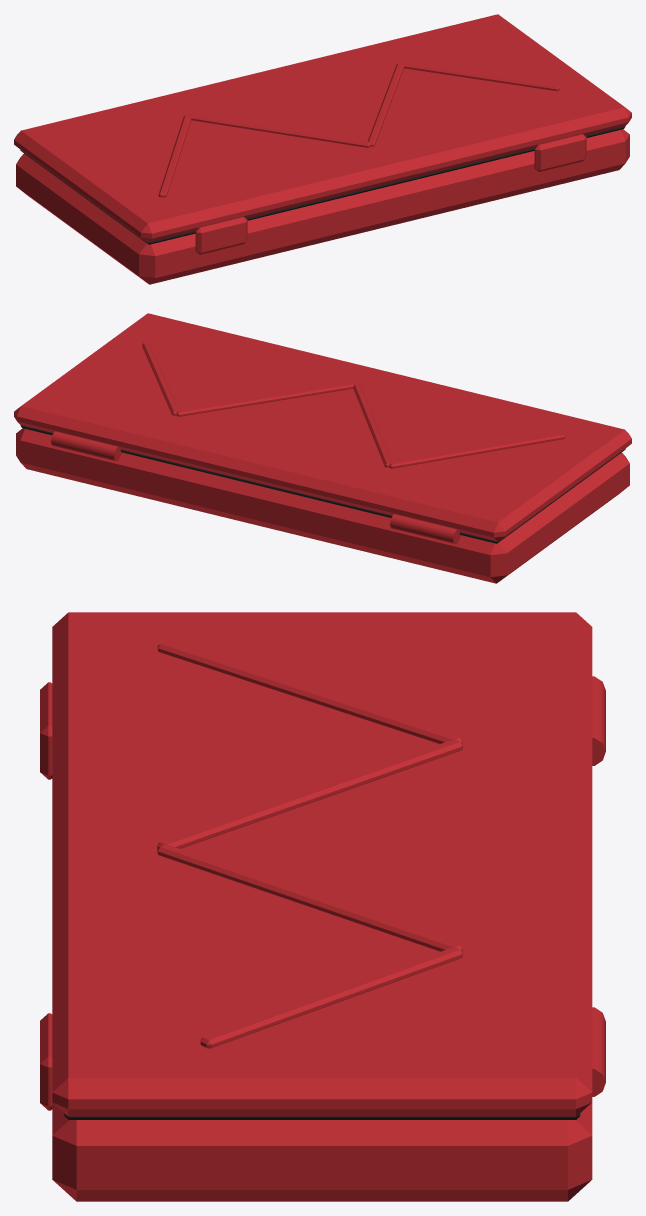
The picture shows the model from 3 angles, top to bottom: view 1: azimuth 30°, elevation 25°; view 2: azimuth 150°, elevation 25°; view 3: azimuth 270°, elevation 25°; orthographic projection. The views are drawn at different scales.
Visible parts, largest first — view 1: Red shallow lower shell, Dark red case split seam; view 2: Red shallow lower shell, Dark red case split seam; view 3: Red shallow lower shell, Dark red case split seam.
Part boxes in pixels (box(x1,y1,x2,y2)): Red shallow lower shell: box(14, 14, 631, 284); Dark red case split seam: box(20, 126, 625, 244); Red shallow lower shell: box(14, 313, 631, 583); Dark red case split seam: box(20, 425, 625, 543); Red shallow lower shell: box(40, 612, 605, 1201); Dark red case split seam: box(64, 1113, 580, 1119).
Bounding box in the file's own units: 0.42 × 0.055 × 0.2095.
